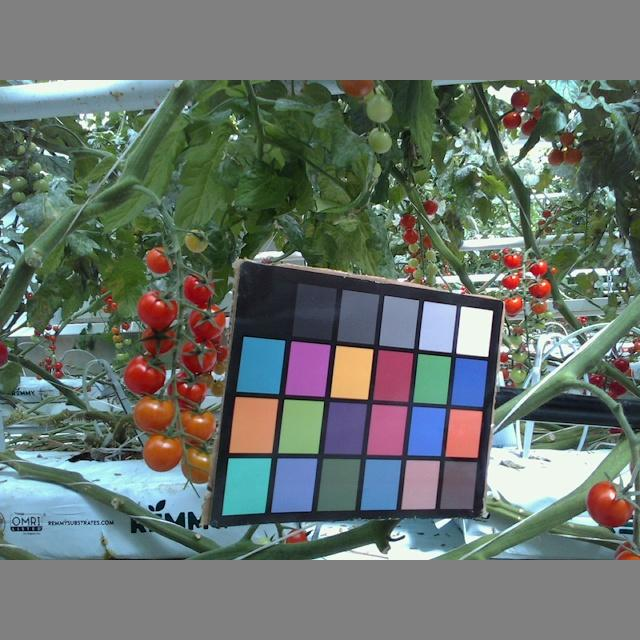green: (366, 95, 392, 124), (183, 228, 208, 254), (366, 129, 392, 153)
pink: (585, 482, 633, 526), (132, 392, 176, 433), (173, 408, 215, 447), (142, 433, 183, 471), (180, 446, 217, 485)
red: (122, 355, 166, 396), (135, 290, 177, 330), (177, 338, 218, 374), (167, 374, 205, 411), (187, 304, 225, 340), (142, 322, 177, 354), (180, 273, 215, 303), (147, 245, 173, 273), (527, 279, 553, 299), (525, 257, 549, 278), (498, 271, 522, 290), (501, 251, 523, 269)
